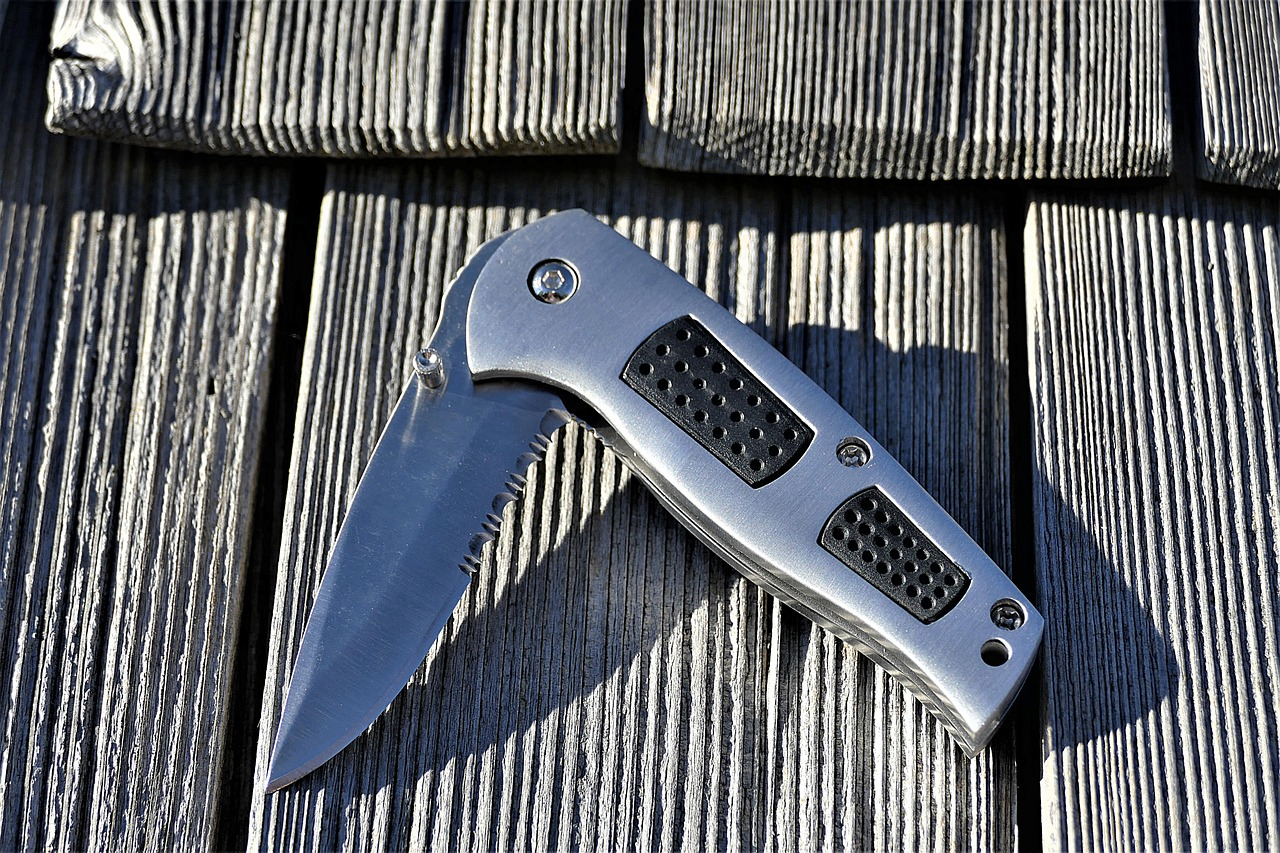knife: (237, 198, 1061, 806)
